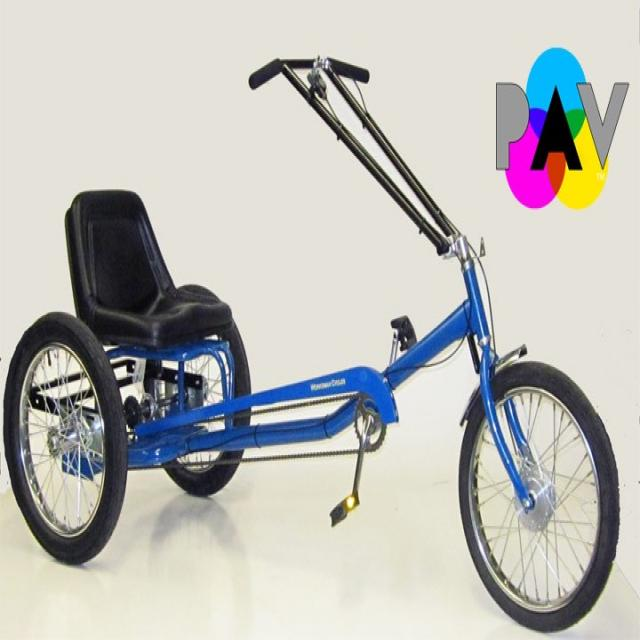recumbent-bike: (3, 58, 624, 631)
